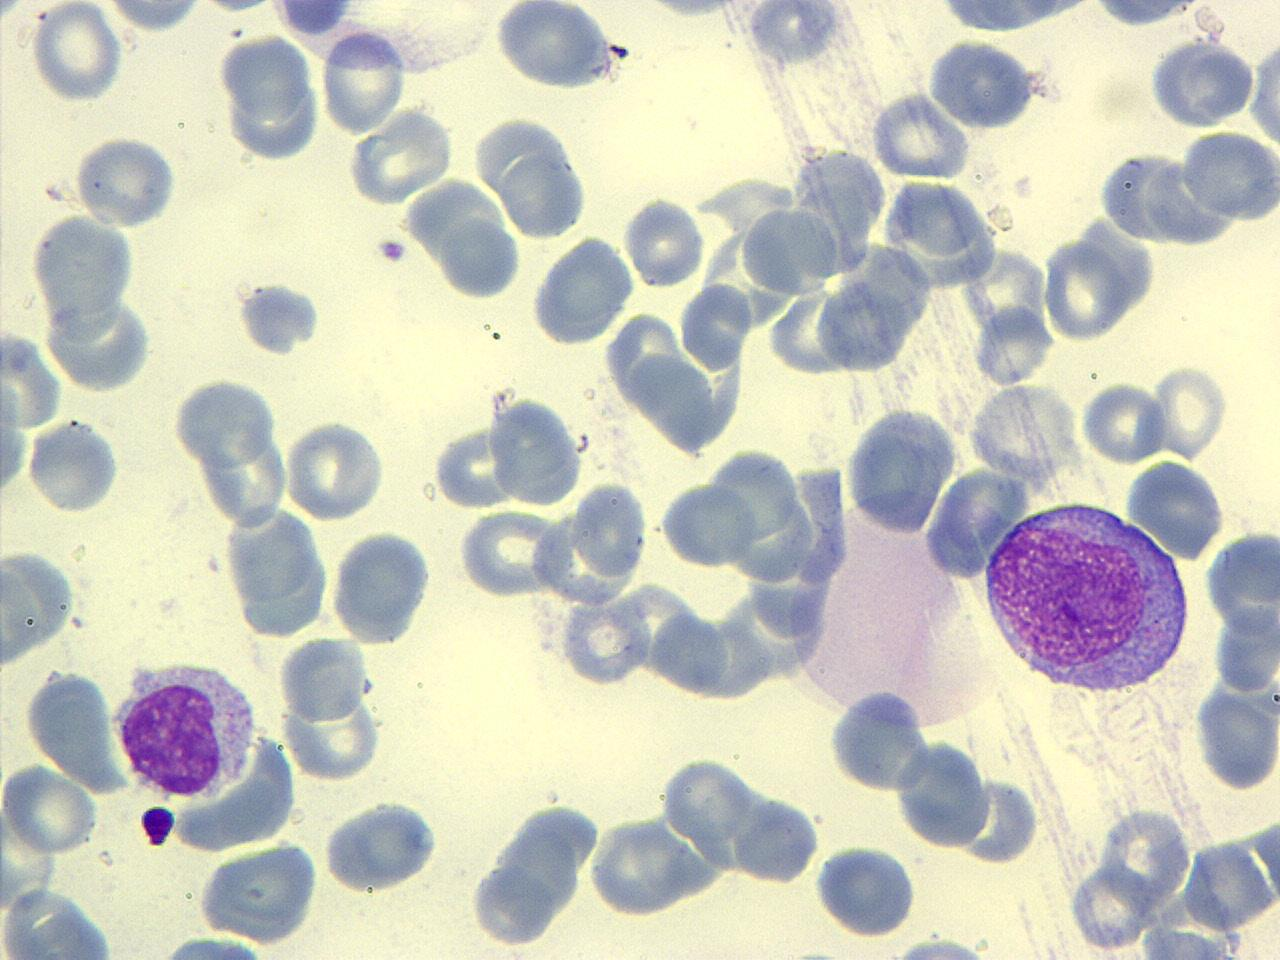Platelets: (234, 279, 321, 356), (889, 936, 996, 960), (136, 801, 178, 850), (374, 234, 409, 265), (786, 942, 844, 960)
RBC: (1014, 134, 1274, 579), (878, 176, 1002, 290), (198, 838, 319, 946), (966, 378, 1086, 486), (332, 527, 437, 647), (323, 794, 445, 894), (27, 209, 141, 316), (494, 0, 618, 93), (344, 105, 456, 206), (283, 415, 389, 521), (892, 737, 992, 849), (1122, 457, 1228, 562), (72, 131, 182, 230), (811, 838, 919, 939), (170, 374, 280, 471), (1178, 124, 1280, 226), (30, 0, 124, 105), (318, 26, 408, 134), (26, 416, 124, 514), (457, 506, 558, 600), (658, 473, 754, 572), (869, 90, 973, 179), (214, 31, 314, 123), (1042, 235, 1128, 343), (0, 762, 98, 855), (0, 886, 119, 959), (276, 631, 368, 725), (498, 148, 590, 242), (734, 791, 824, 885), (1150, 358, 1232, 463), (0, 545, 76, 657), (622, 192, 706, 290), (573, 478, 650, 580), (1078, 377, 1168, 464), (441, 214, 524, 303), (972, 299, 1053, 388), (94, 0, 211, 36), (1249, 28, 1280, 158), (0, 560, 30, 672)
WBC: (248, 0, 971, 463), (623, 0, 1261, 264), (0, 0, 567, 227), (624, 421, 860, 702), (1076, 0, 1280, 283), (978, 495, 1192, 698), (1059, 798, 1279, 960), (1192, 493, 1280, 810), (464, 793, 604, 953), (110, 654, 260, 801), (842, 403, 959, 536), (220, 504, 332, 642), (196, 837, 325, 947), (882, 176, 1004, 292), (329, 524, 438, 648), (24, 664, 130, 792), (528, 228, 639, 350), (321, 794, 444, 896), (483, 388, 588, 509), (924, 34, 1049, 132), (494, 2, 622, 96), (826, 683, 932, 793), (1170, 123, 1278, 228), (812, 837, 922, 938), (173, 376, 283, 476), (1143, 35, 1253, 132), (1202, 520, 1280, 652), (26, 414, 123, 517), (498, 148, 590, 244), (0, 888, 120, 960), (914, 0, 1116, 35), (126, 930, 306, 960), (1068, 0, 1226, 33)
